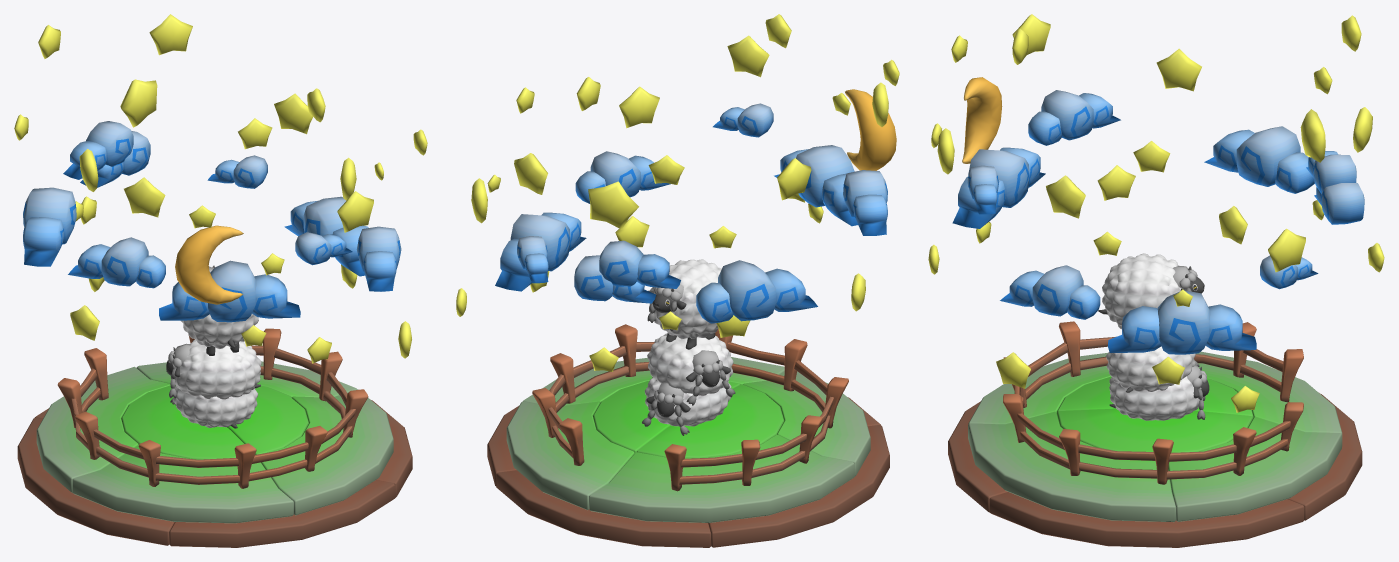
File: Level_P_42.fbx
3 renders of one model, left to right at view 1: azimuth 30°, elevation 25°; view 2: azimuth 150°, elevation 25°; view 3: azimuth 270°, elevation 25°, orthographic. The views are drawn at different scales.
Visible parts, largest first — view 1: Base.001, Base.012, Base.011, Base.009, Base.006, Base.005, Moon.008, Base.013, Wooloo_Slept.004, Star.001, Star.002, Moon.006 (+20 smaller); view 2: Base.009, Base.001, Base.010, Base.004, Base.005, Base.013, Star.001, Base.012, Star.002, Wooloo_Slept.004, Wooloo_Surprised.002, Moon.005 (+21 smaller); view 3: Base.001, Base.011, Base.010, Base.007, Moon.005, Base.002, Star.001, Wooloo_Surprised.002, Base.009, Moon.008, Moon.004, Base.012 (+22 smaller).
Boxes of the visible parts, x1=… form: Base.001: x1=57, y1=328, x2=368, y2=488; Base.012: x1=72, y1=445, x2=293, y2=523; Base.011: x1=261, y1=389, x2=393, y2=515; Base.009: x1=36, y1=366, x2=170, y2=492; Base.006: x1=169, y1=480, x2=395, y2=547; Base.005: x1=17, y1=417, x2=174, y2=545; Moon.008: x1=159, y1=260, x2=300, y2=322; Base.013: x1=121, y1=385, x2=244, y2=459; Wooloo_Slept.004: x1=166, y1=339, x2=261, y2=399; Star.001: x1=23, y1=187, x2=76, y2=266; Star.002: x1=63, y1=121, x2=150, y2=187; Moon.006: x1=68, y1=237, x2=165, y2=288; Base.009: x1=589, y1=434, x2=854, y2=522; Base.001: x1=532, y1=324, x2=848, y2=491; Base.010: x1=506, y1=401, x2=634, y2=510; Base.004: x1=496, y1=470, x2=711, y2=547; Base.005: x1=708, y1=425, x2=889, y2=547; Base.013: x1=637, y1=384, x2=784, y2=458; Star.001: x1=696, y1=260, x2=817, y2=323; Base.012: x1=743, y1=371, x2=870, y2=475; Star.002: x1=574, y1=240, x2=680, y2=303; Wooloo_Slept.004: x1=647, y1=333, x2=735, y2=405; Wooloo_Surprised.002: x1=647, y1=259, x2=721, y2=349; Moon.005: x1=495, y1=212, x2=586, y2=291; Base.001: x1=1003, y1=321, x2=1303, y2=484; Base.011: x1=968, y1=411, x2=1176, y2=522; Base.010: x1=1168, y1=417, x2=1341, y2=521; Base.007: x1=989, y1=492, x2=1304, y2=547; Moon.005: x1=1108, y1=290, x2=1256, y2=354; Base.002: x1=1057, y1=408, x2=1252, y2=452; Star.001: x1=1204, y1=126, x2=1314, y2=193; Wooloo_Surprised.002: x1=1098, y1=253, x2=1204, y2=329; Base.009: x1=1196, y1=351, x2=1342, y2=446; Moon.008: x1=952, y1=147, x2=1045, y2=228; Moon.004: x1=1000, y1=265, x2=1100, y2=319; Base.012: x1=968, y1=353, x2=1110, y2=424.
Size of the model in its own units: 33.46 by 35.8 by 35.2.
